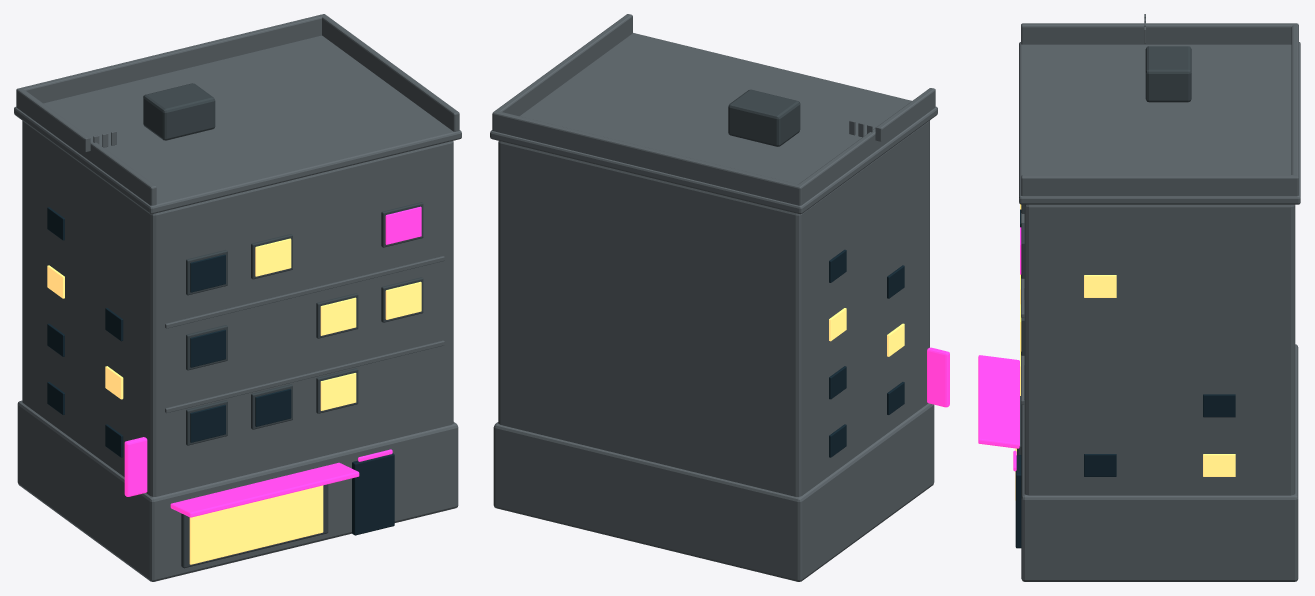
The model's file is night-market_a.glb.
3 renders of one model, left to right at view 1: azimuth 30°, elevation 25°; view 2: azimuth 150°, elevation 25°; view 3: azimuth 270°, elevation 25°, orthographic. The views are drawn at different scales.
Parts seen in each view (by area): view 1: ND_Batch_structure, ND_Batch_warm, ND_Batch_glass, ND_Batch_metal, ND_Batch_practical; view 2: ND_Batch_structure, ND_Batch_metal, ND_Batch_glass, ND_Batch_practical, ND_Batch_warm; view 3: ND_Batch_structure, ND_Batch_practical, ND_Batch_metal, ND_Batch_glass, ND_Batch_warm.
Boxes of the visible parts, box(x1,y1,x2,y2) form: ND_Batch_structure: box(14, 14, 461, 581); ND_Batch_warm: box(47, 238, 421, 564); ND_Batch_glass: box(47, 207, 394, 535); ND_Batch_metal: box(143, 83, 423, 568); ND_Batch_practical: box(124, 206, 421, 517); ND_Batch_structure: box(490, 14, 937, 581); ND_Batch_metal: box(728, 89, 800, 146); ND_Batch_glass: box(829, 249, 904, 457); ND_Batch_practical: box(927, 347, 949, 407); ND_Batch_warm: box(829, 308, 904, 356); ND_Batch_structure: box(1019, 14, 1300, 581); ND_Batch_practical: box(978, 227, 1021, 471); ND_Batch_metal: box(1017, 46, 1191, 454); ND_Batch_glass: box(1015, 209, 1235, 548); ND_Batch_warm: box(1015, 204, 1235, 500).
Size of the model in its own units: 9.8 by 11.67 by 8.1.
